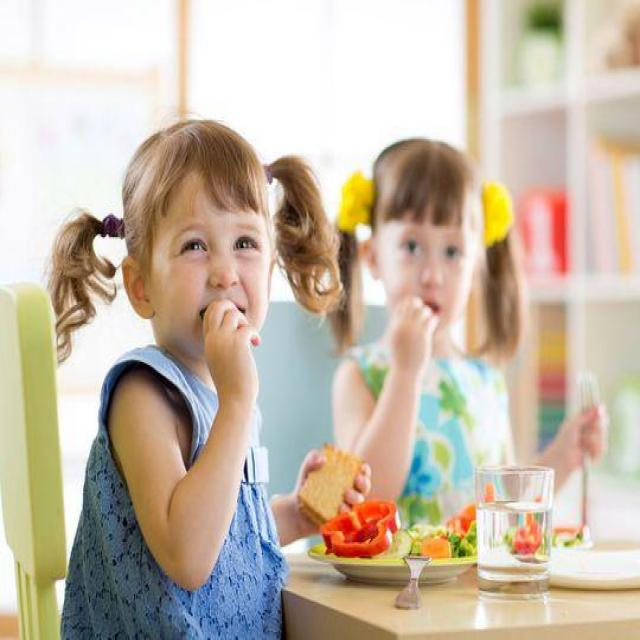child: (38, 112, 345, 640), (331, 136, 610, 487)
